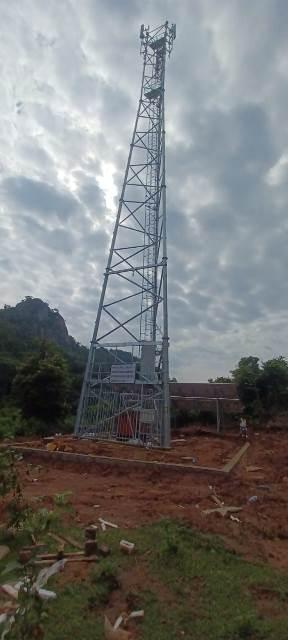GSM Antenna: (170, 23, 179, 39), (139, 22, 146, 41)
